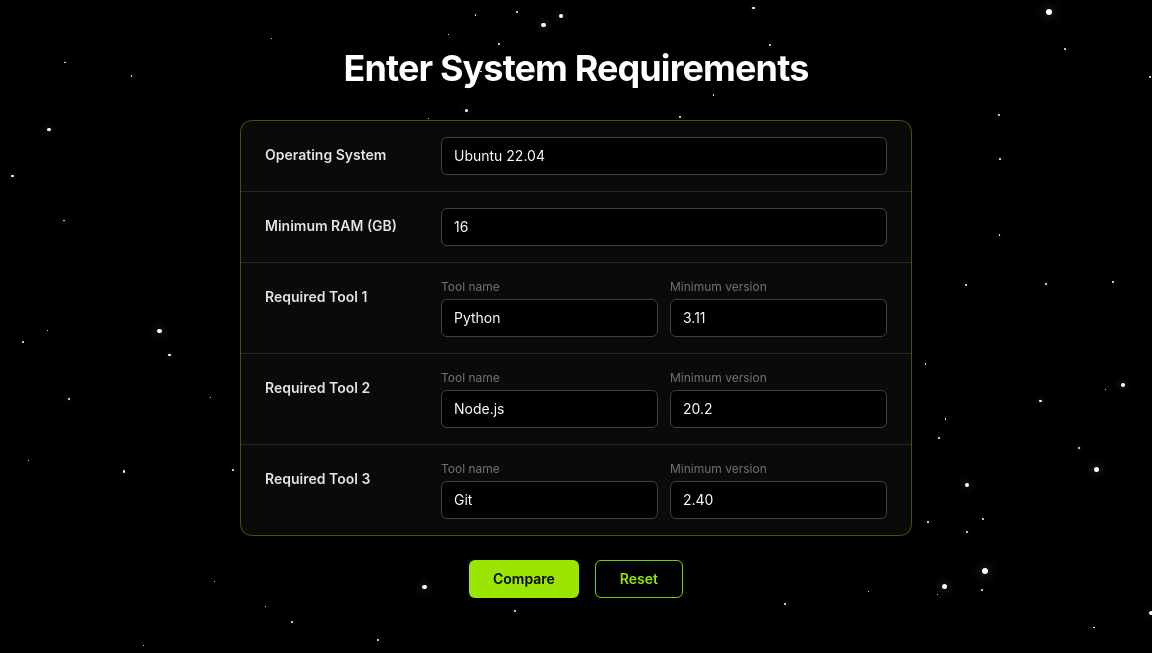
Test: App (Section 1: Project Requirements) › shows an inline error for an invalid version format
Replace the text in the field named "Tool 2 minimum version" with "20..2". click: [778, 409]
box: [670, 390, 887, 428]
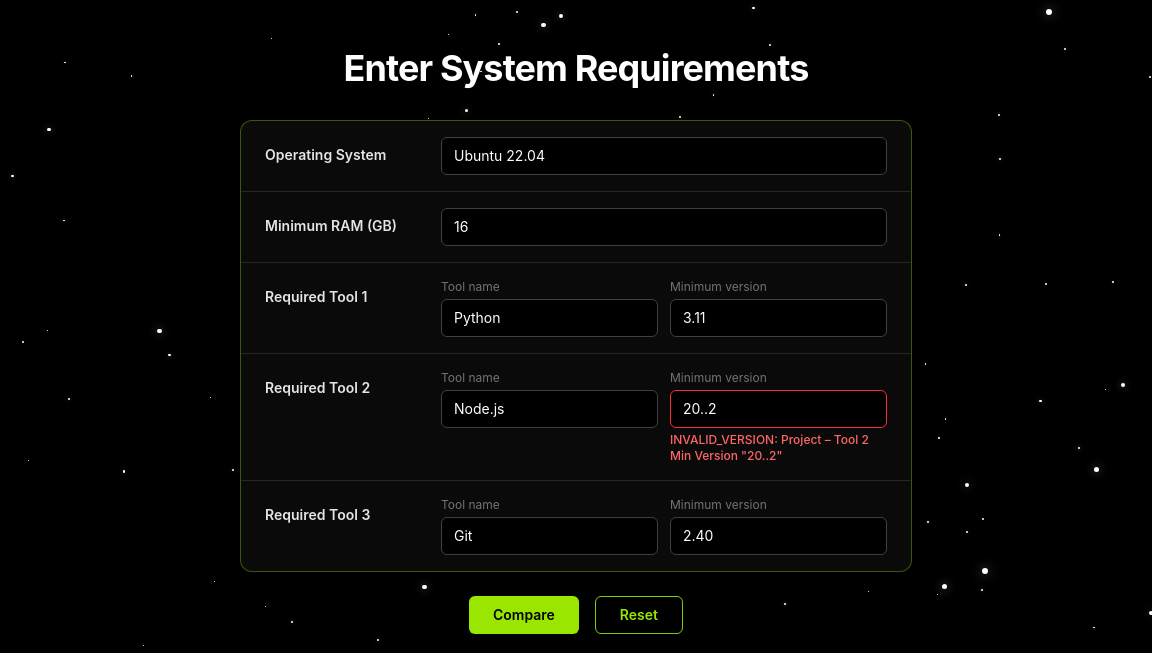
Expected: the text "INVALID_VERSION: Project – Tool 2 Min Version \"20..2\"" is shown, [670, 432, 887, 464]
